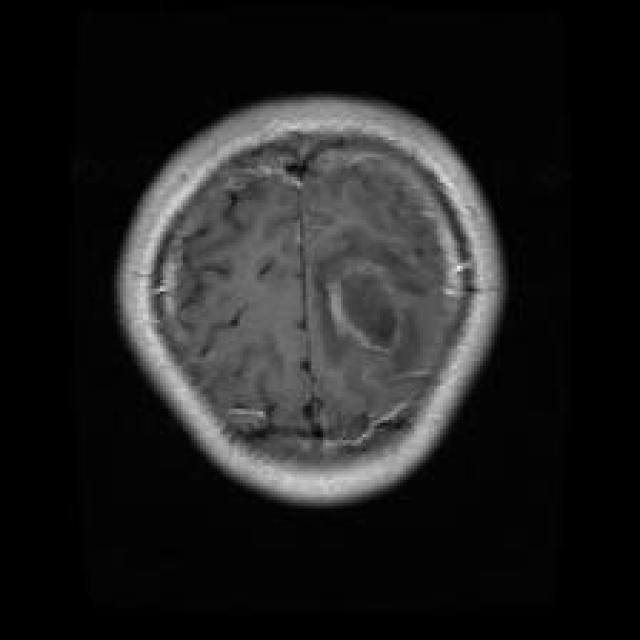glioma_tumor: (301, 228, 441, 375)
